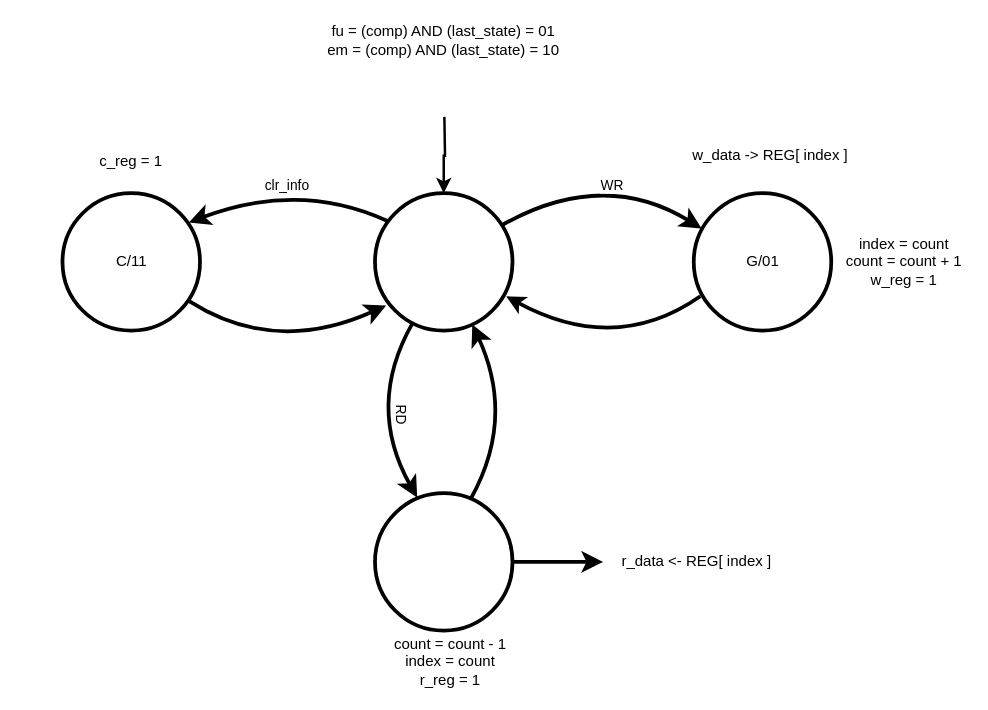
This 988x710 diagram has some shape labels left out. The box of each missing label's shape, as (x1, y1, x2, y2) in pixels:
I/00: (372, 191, 514, 332)
L/10: (372, 491, 514, 632)
